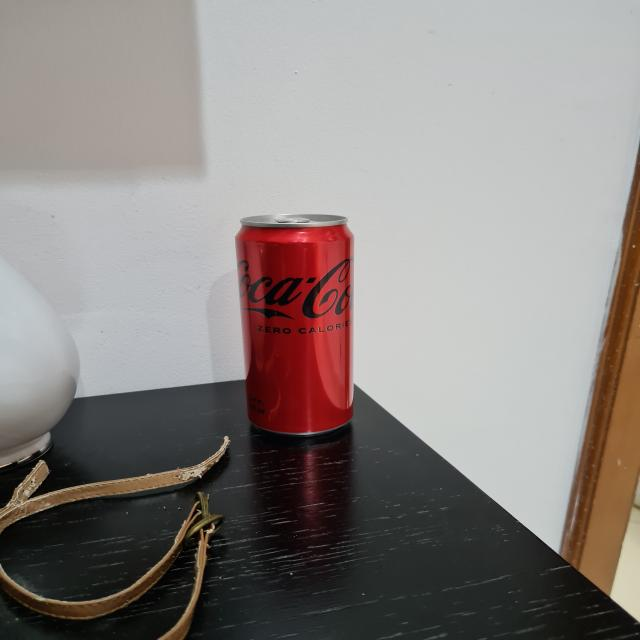non-organic waste: (235, 212, 361, 444)
